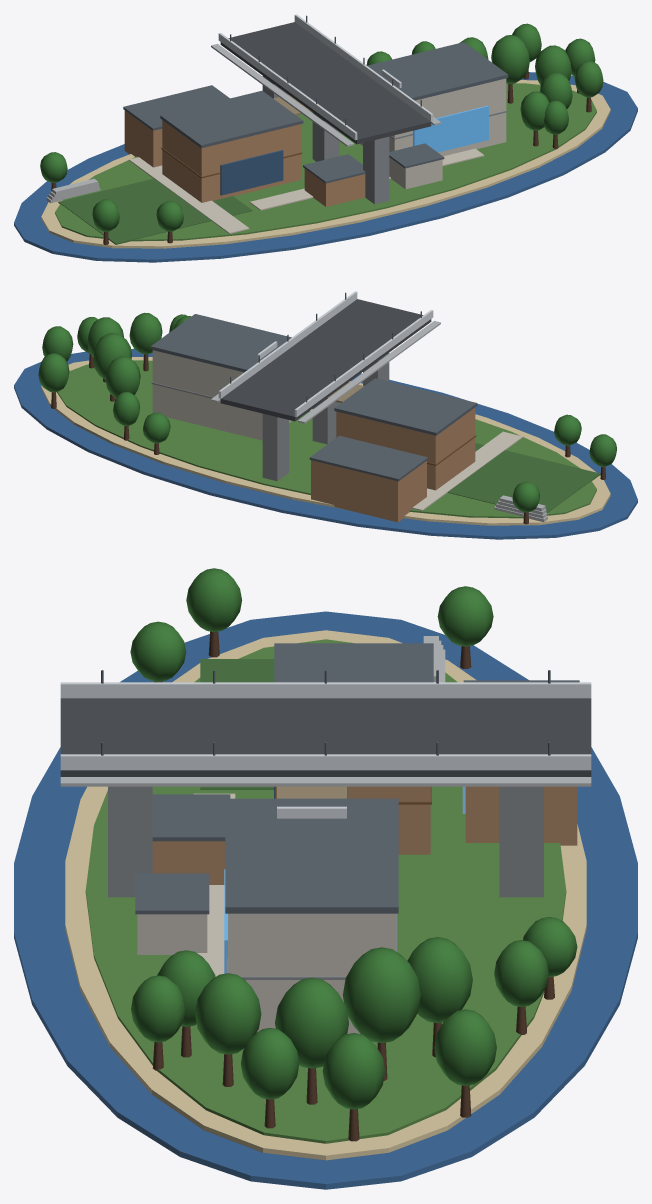
The model's file is nodeul-island.glb.
3 renders of one model, top to bottom at view 1: azimuth 30°, elevation 25°; view 2: azimuth 150°, elevation 25°; view 3: azimuth 270°, elevation 25°, orthographic. The views are drawn at different scales.
Size of the model in its own units: 97 by 15.55 by 44.67.
